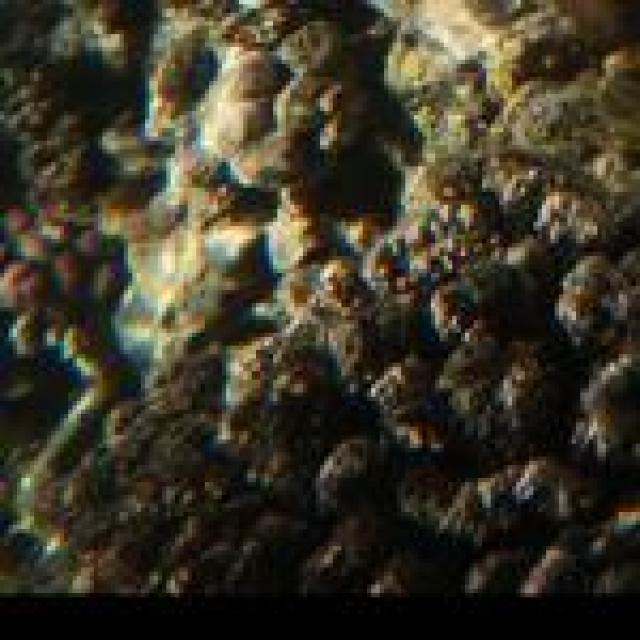Dead Coral: (47, 207, 640, 635)
